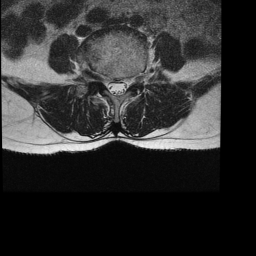CCS_normal: (113, 72, 120, 100)
LFS_normal: (128, 68, 136, 90)
LLS_normal: (120, 71, 128, 96)
RFS_normal: (97, 66, 105, 90)
RLS_normal: (106, 70, 113, 96)
